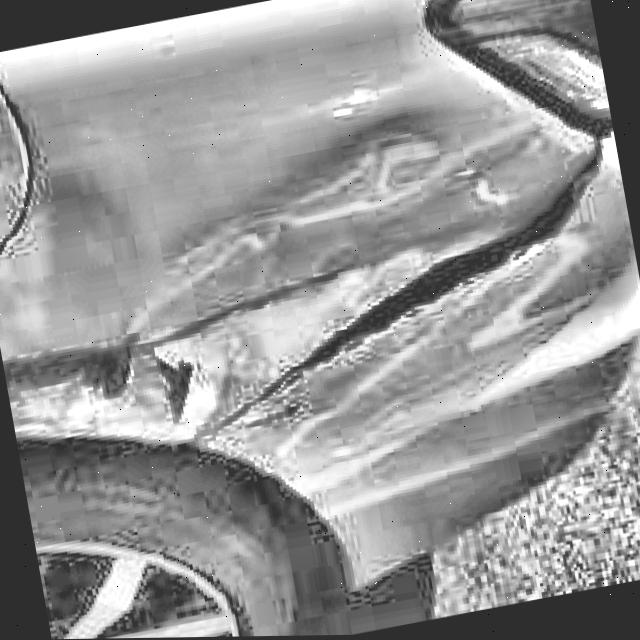bumper_dent: (118, 157, 640, 430)
